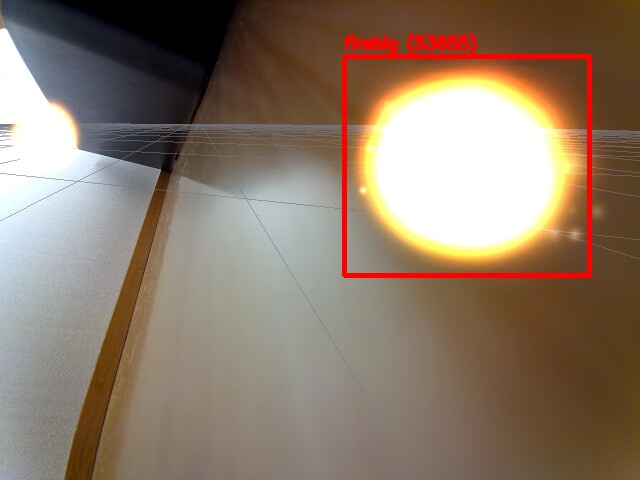firebig: (344, 56, 589, 275)
